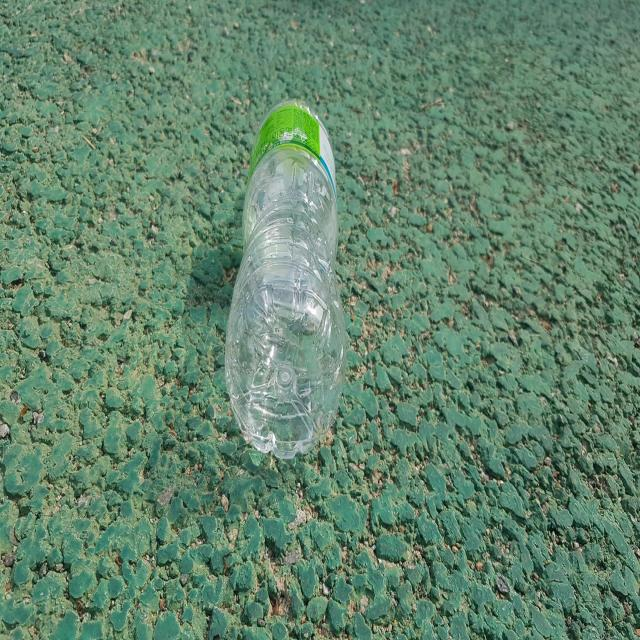plastic: (225, 99, 346, 459)
